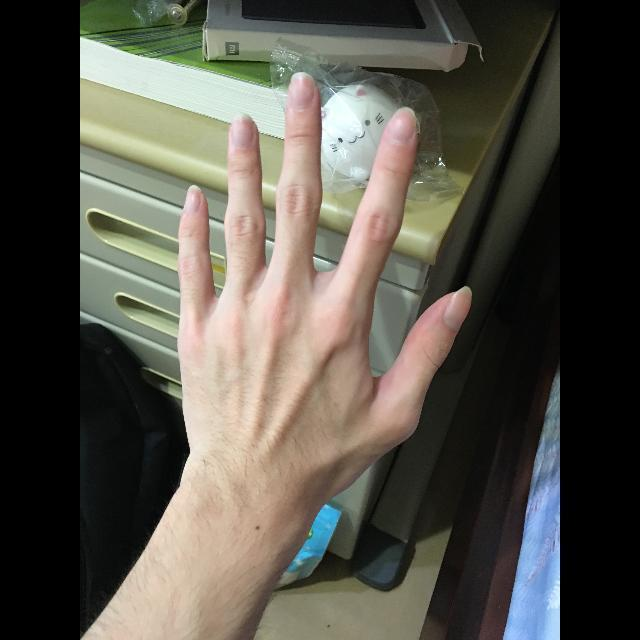bare_hand: (175, 71, 475, 471)
